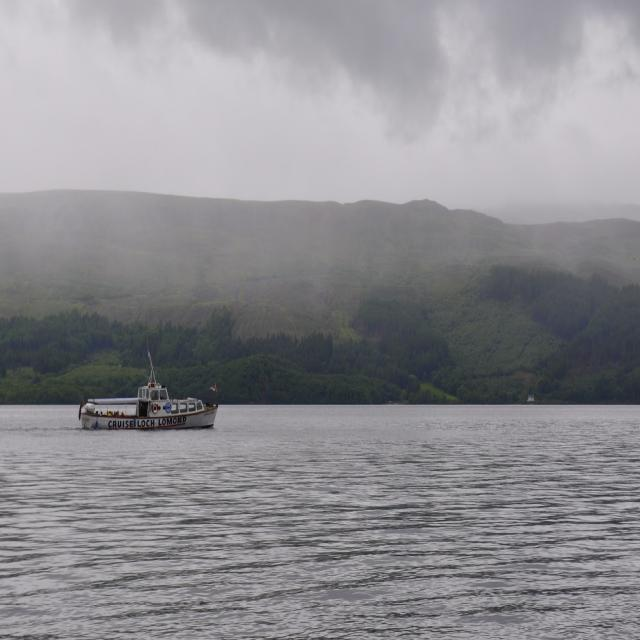fishing boat: (76, 353, 218, 434)
